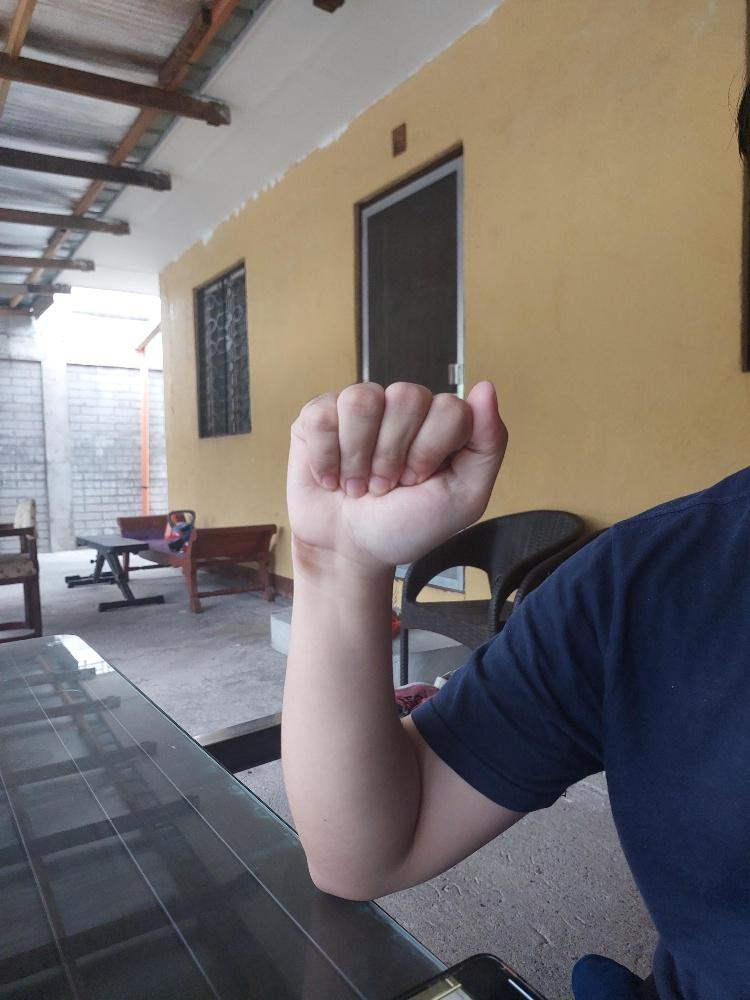a: (283, 375, 511, 570)
